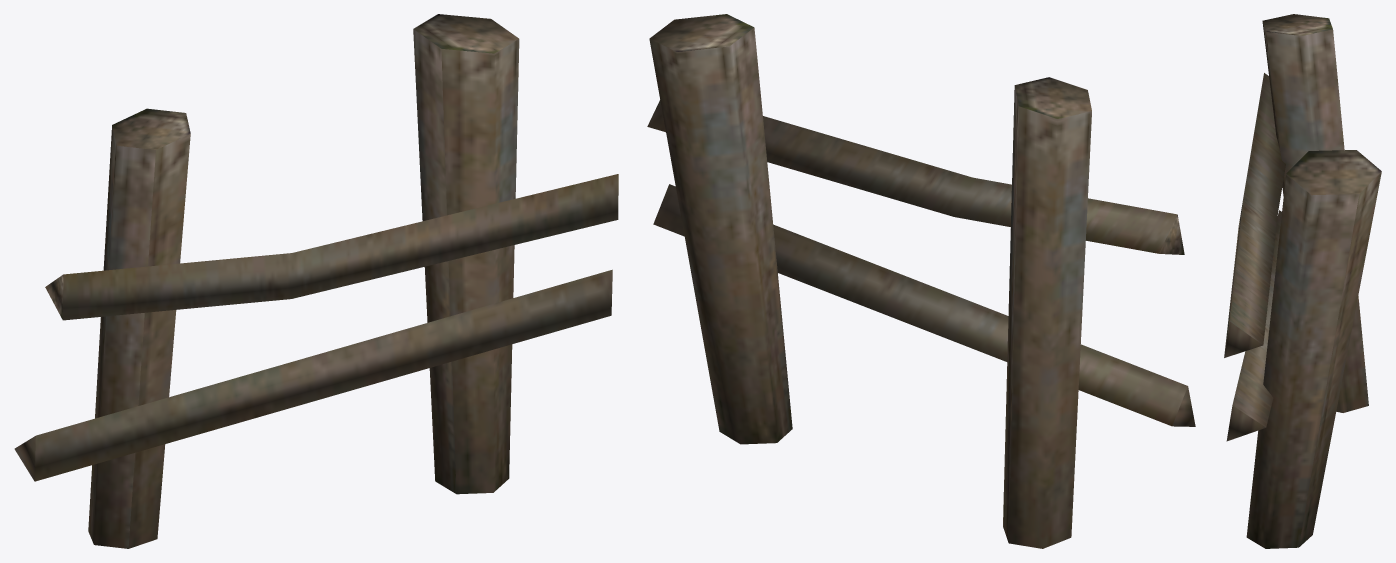
File: zhalan.FBX
3 views of the same model, side by side, from view 1: azimuth 30°, elevation 25°; view 2: azimuth 150°, elevation 25°; view 3: azimuth 270°, elevation 25° (orthographic). The views are drawn at different scales.
Parts seen in each view (by area): view 1: Mesh_0088; view 2: Mesh_0088; view 3: Mesh_0088.
Part boxes in pixels (box(x1,y1,x2,y2)): Mesh_0088: box(14, 14, 618, 548); Mesh_0088: box(647, 14, 1195, 548); Mesh_0088: box(1224, 14, 1381, 548).
Size of the model in its own units: 150 by 110 by 40.89.
1 material, 1 textured.
